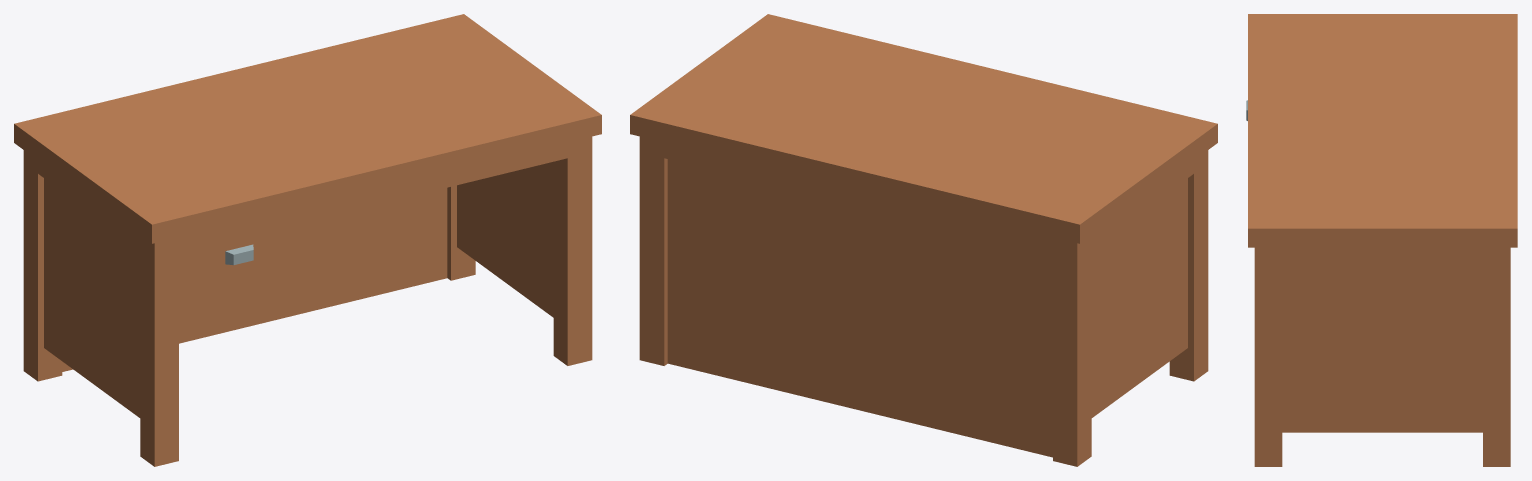
The model's file is furn_desk.glb.
The picture shows the model from 3 angles, left to right: view 1: azimuth 30°, elevation 25°; view 2: azimuth 150°, elevation 25°; view 3: azimuth 270°, elevation 25°; orthographic projection. The views are drawn at different scales.
Visible parts, largest first — view 1: desk(Clone), drawer; view 2: desk(Clone); view 3: desk(Clone).
Boxes of the visible parts, left/top/right/bottom form: desk(Clone): left=14, top=14, right=601, bottom=466; drawer: left=179, top=223, right=299, bottom=284; desk(Clone): left=630, top=14, right=1217, bottom=466; desk(Clone): left=1248, top=14, right=1517, bottom=466.
Size of the model in its own units: 0.7345 by 0.3844 by 0.3923.
